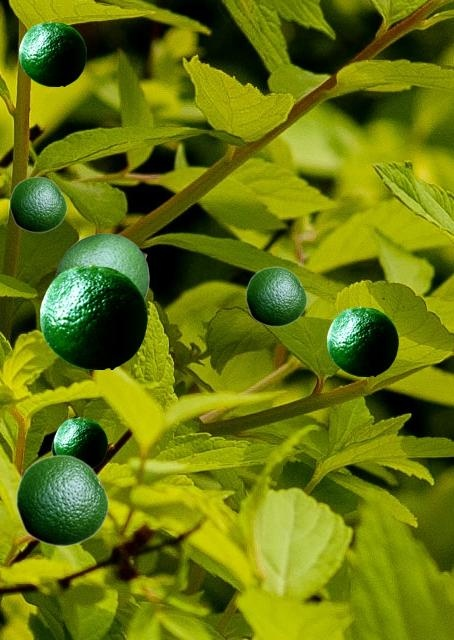calamansi: (40, 264, 146, 368), (15, 454, 108, 546), (55, 233, 148, 299), (327, 306, 397, 375), (19, 21, 85, 85), (245, 266, 306, 326), (9, 176, 66, 232), (54, 417, 106, 468), (51, 437, 54, 454)
